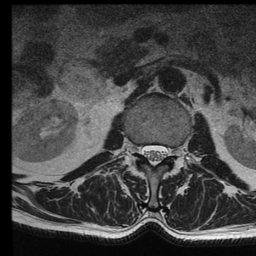CCS_normal: (150, 135, 159, 174)
LFS_normal: (168, 135, 178, 163)
LLS_normal: (159, 135, 168, 167)
RFS_normal: (132, 133, 141, 161)
RLS_normal: (140, 135, 150, 164)
